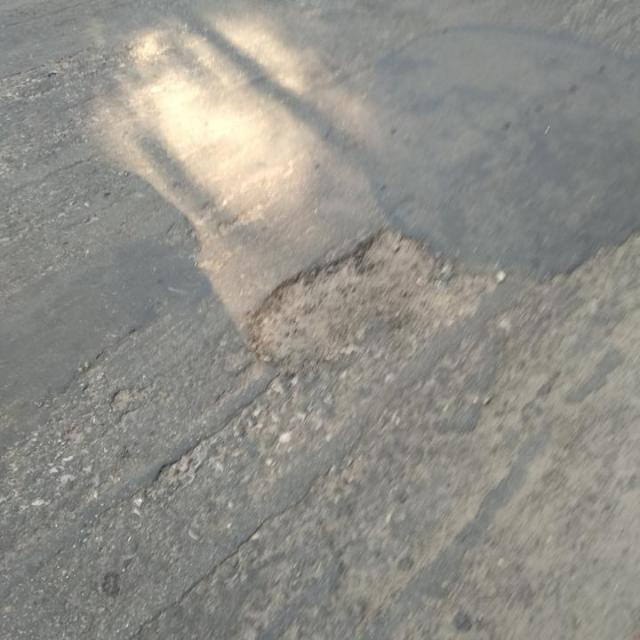Pothole: (252, 225, 506, 375)
